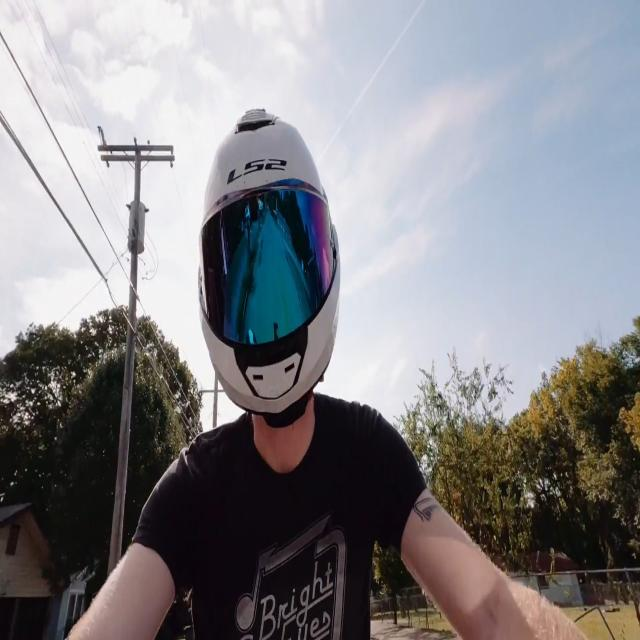Helmet_Wearer: (186, 101, 344, 443)
Person: (68, 87, 587, 640)
